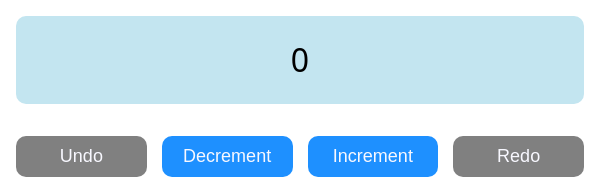
Test: History Controller › Clicking Undo reverts count to previous value
This screenshot has width=601, height=194.
Click the button with test id "increment-btn" at (373, 156), box x1=308 y1=136 x2=438 y2=177
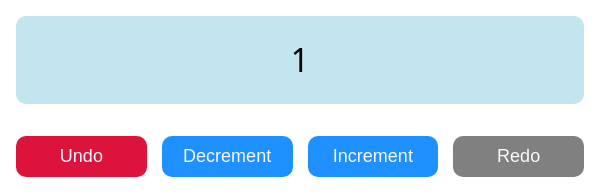
Check: the text with test id "counter-value" reads "1", box x1=291 y1=38 x2=309 y2=81
Click the button with test id "undo-btn" at (81, 156), box x1=16 y1=136 x2=147 y2=177
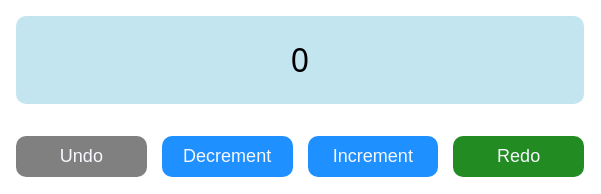
Check: the text with test id "counter-value" reads "0", box x1=291 y1=38 x2=309 y2=81
